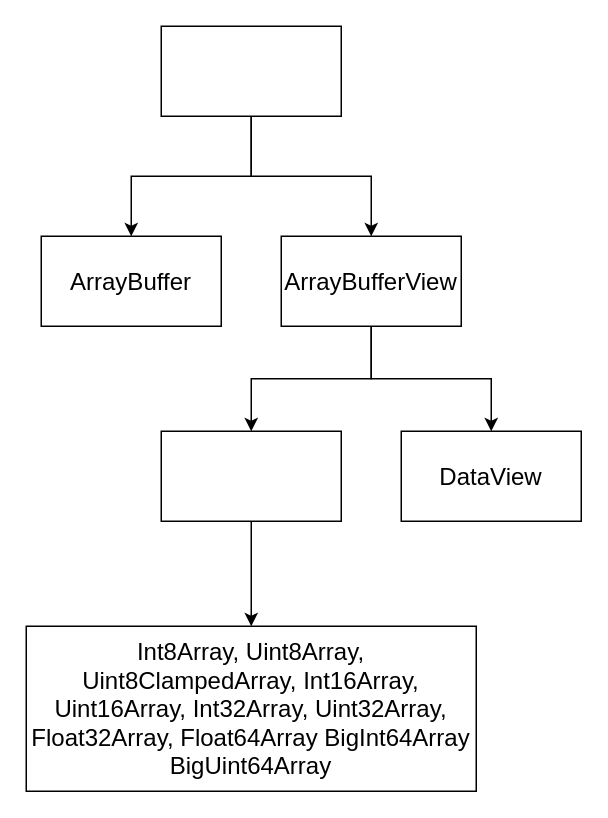
This 608x818 diagram has some shape labels left out. Each missing label, with the centre of its shape:
"Object" belongs at point 250,70.
"TypedArray" belongs at point 250,475.
